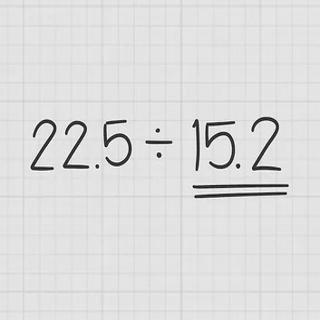.: (93, 158, 103, 175), (233, 159, 243, 173)
1: (186, 114, 204, 175)
2: (246, 111, 286, 176), (20, 115, 60, 176), (58, 118, 91, 171)
5: (202, 116, 235, 173), (102, 119, 134, 169)
